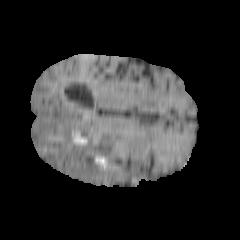glioma: (52, 111, 145, 183)
